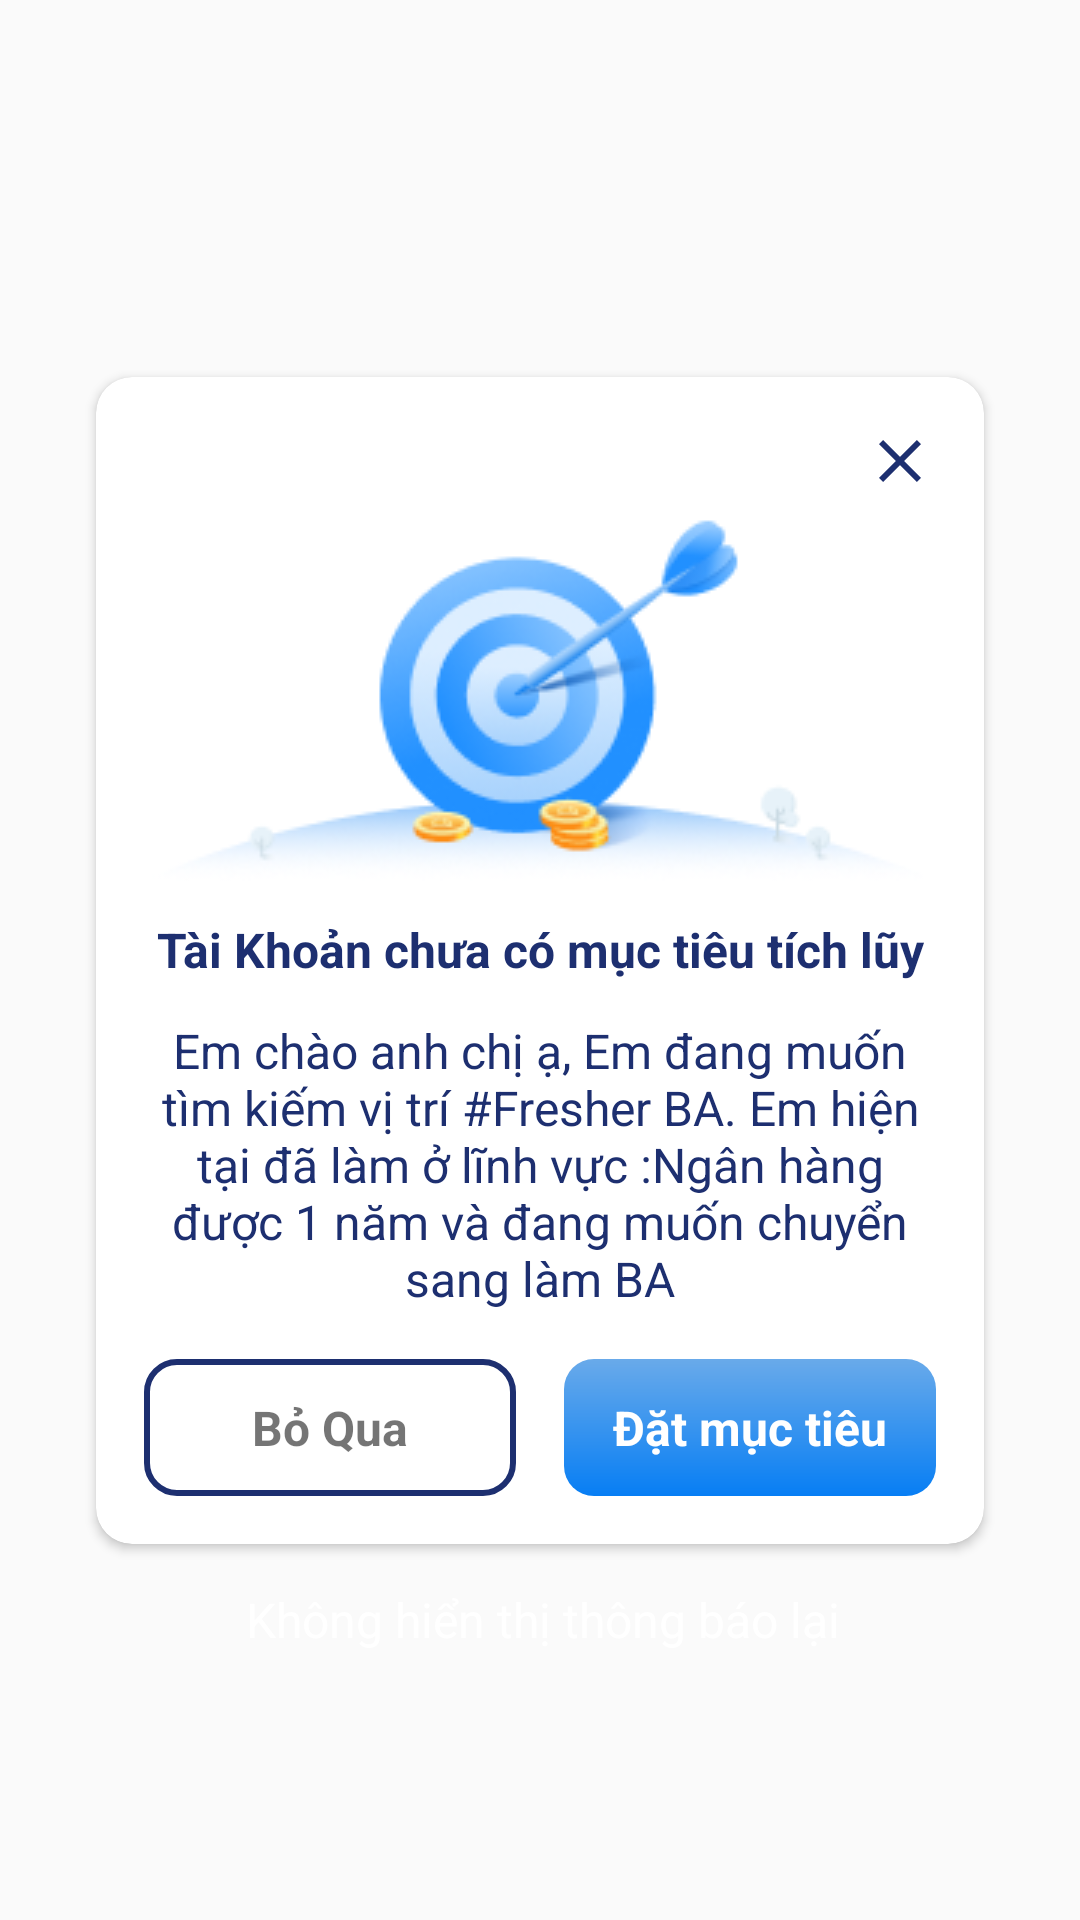

Icon click points for this 1080 × 1920 phone screenshot, format point (x, y):
close: point (900, 461)
